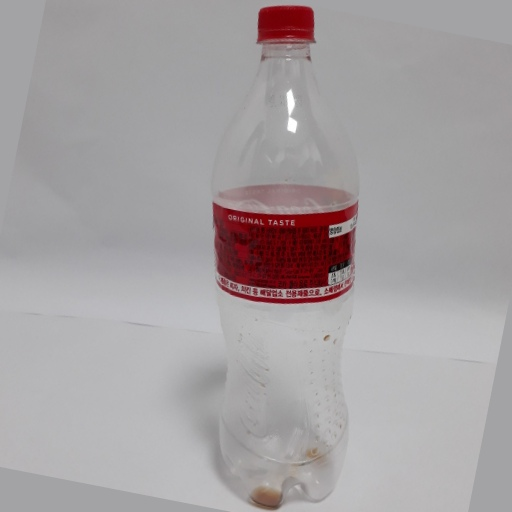Plastic_0: (197, 3, 365, 508)
